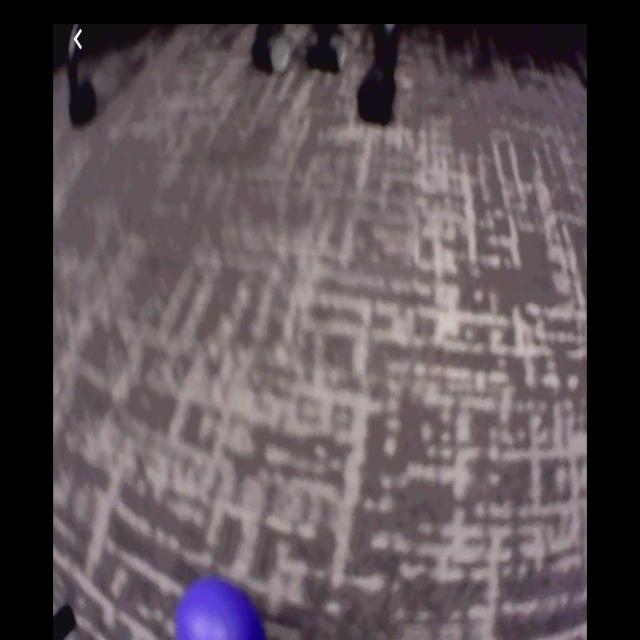ball: (171, 582, 269, 640)
